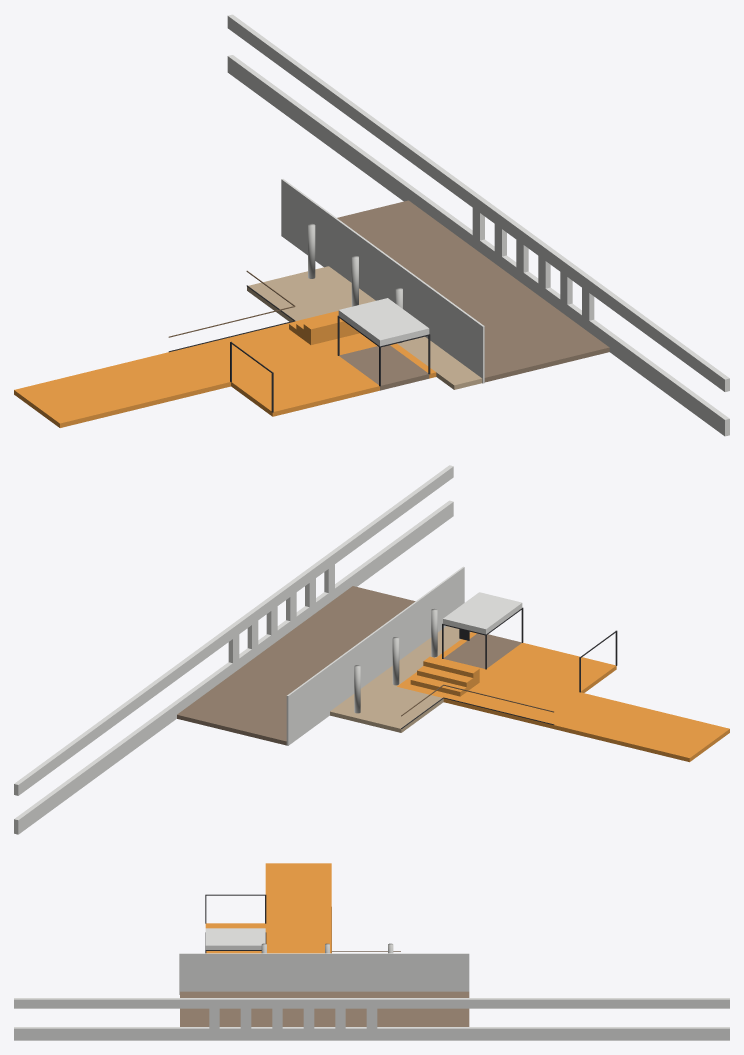
The model's file is SM_Bygg_Helgasetr_P2_O_MS.fbx.
3 renders of one model, top to bottom at view 1: azimuth 30°, elevation 25°; view 2: azimuth 150°, elevation 25°; view 3: azimuth 270°, elevation 25°, orthographic. The views are drawn at different scales.
Visible parts, largest first — view 1: SM_Bygg_Helgasetr_P2_O_MS; view 2: SM_Bygg_Helgasetr_P2_O_MS; view 3: SM_Bygg_Helgasetr_P2_O_MS.
Boxes of the visible parts, x1,y1,x2,y2 form: SM_Bygg_Helgasetr_P2_O_MS: (14,14,729,436); SM_Bygg_Helgasetr_P2_O_MS: (14,465,729,834); SM_Bygg_Helgasetr_P2_O_MS: (14,863,729,1040).
Size of the model in its own units: 68.17 by 39.2 by 4.3.
